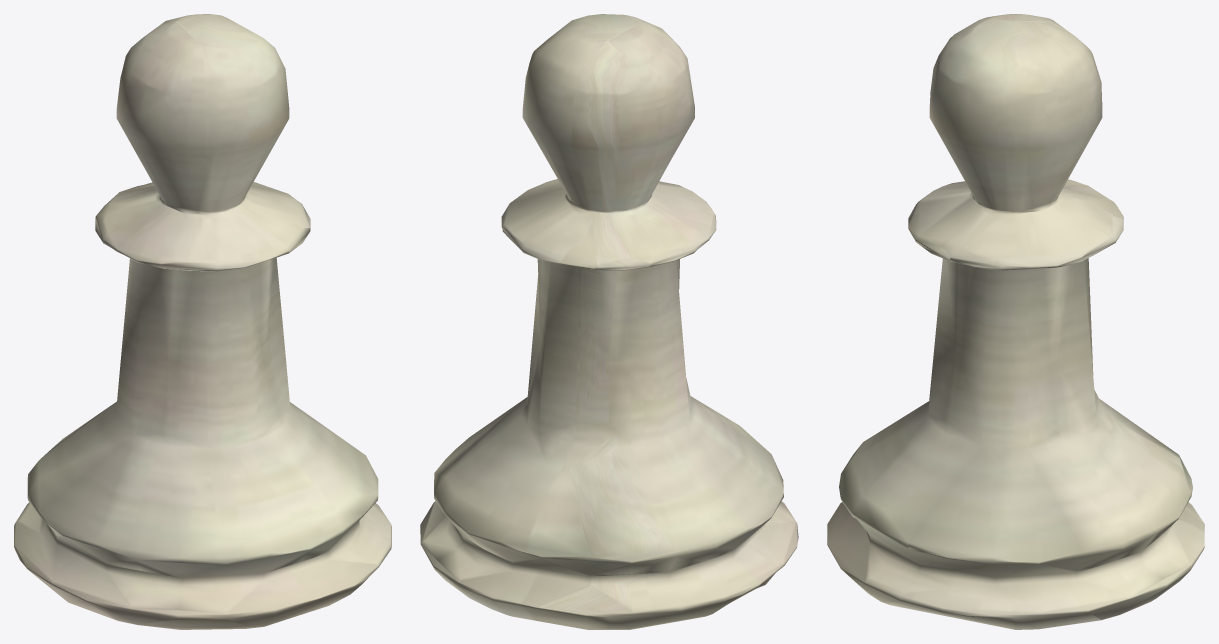
File: Pawn.obj
The picture shows the model from 3 angles, left to right: view 1: azimuth 30°, elevation 25°; view 2: azimuth 150°, elevation 25°; view 3: azimuth 270°, elevation 25°; orthographic projection.
Parts seen in each view (by area): view 1: mesh01; view 2: mesh01; view 3: mesh01.
Part boxes in pixels (x1,y1,x2,y2): mesh01: (14, 14, 391, 629); mesh01: (420, 14, 798, 629); mesh01: (827, 14, 1204, 629).
Bounding box in the file's own units: 12.07 × 19.15 × 12.03.
Materials: 1 (1 with a texture image).
